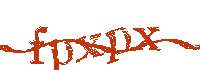f: (29, 24, 48, 67)
p: (107, 28, 130, 66), (50, 40, 73, 70)
x: (75, 33, 105, 61), (134, 27, 160, 52)
